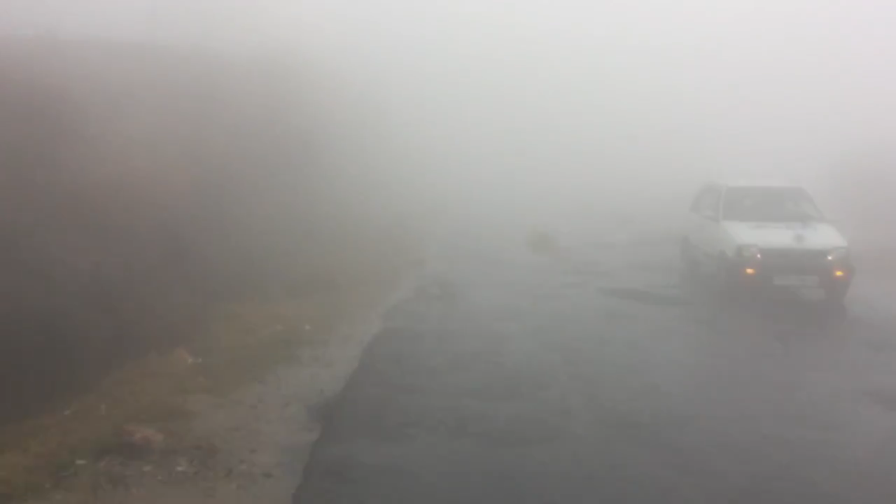car: (681, 179, 856, 304)
